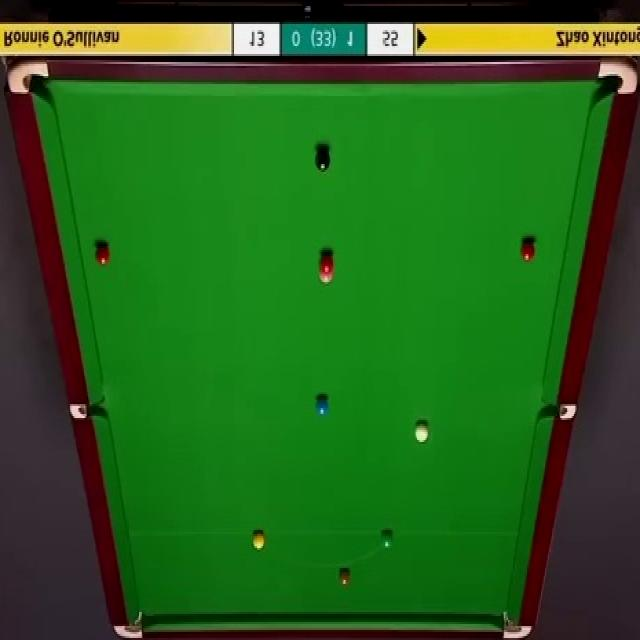black-ball: (314, 150, 332, 172)
blue-ball: (316, 395, 332, 415)
brown-ball: (338, 566, 350, 585)
green-ball: (380, 530, 393, 551)
pink-ball: (318, 270, 333, 284)
red-ball: (518, 240, 536, 264), (94, 243, 111, 268), (321, 253, 334, 273)
white-ball: (414, 425, 426, 446)
yellow-ball: (251, 530, 265, 551)
